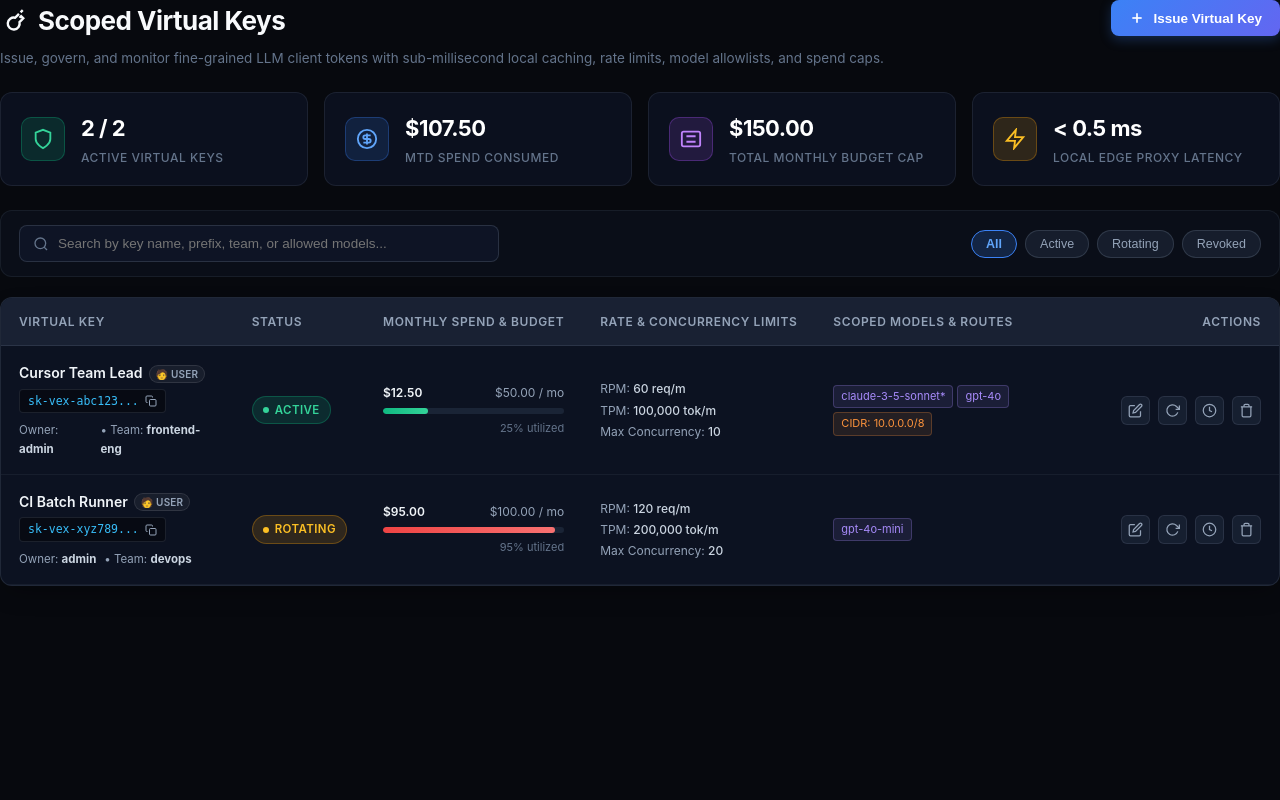
Test: VirtualKeys View › displays validation error inside modal if key name is missing
The image size is (1280, 800).
Expected: the text "Cursor Team Lead" is shown, [19,362,143,385]
Open modal
Click the button "Issue Virtual Key": [1196, 18] box [1111,0,1279,36]
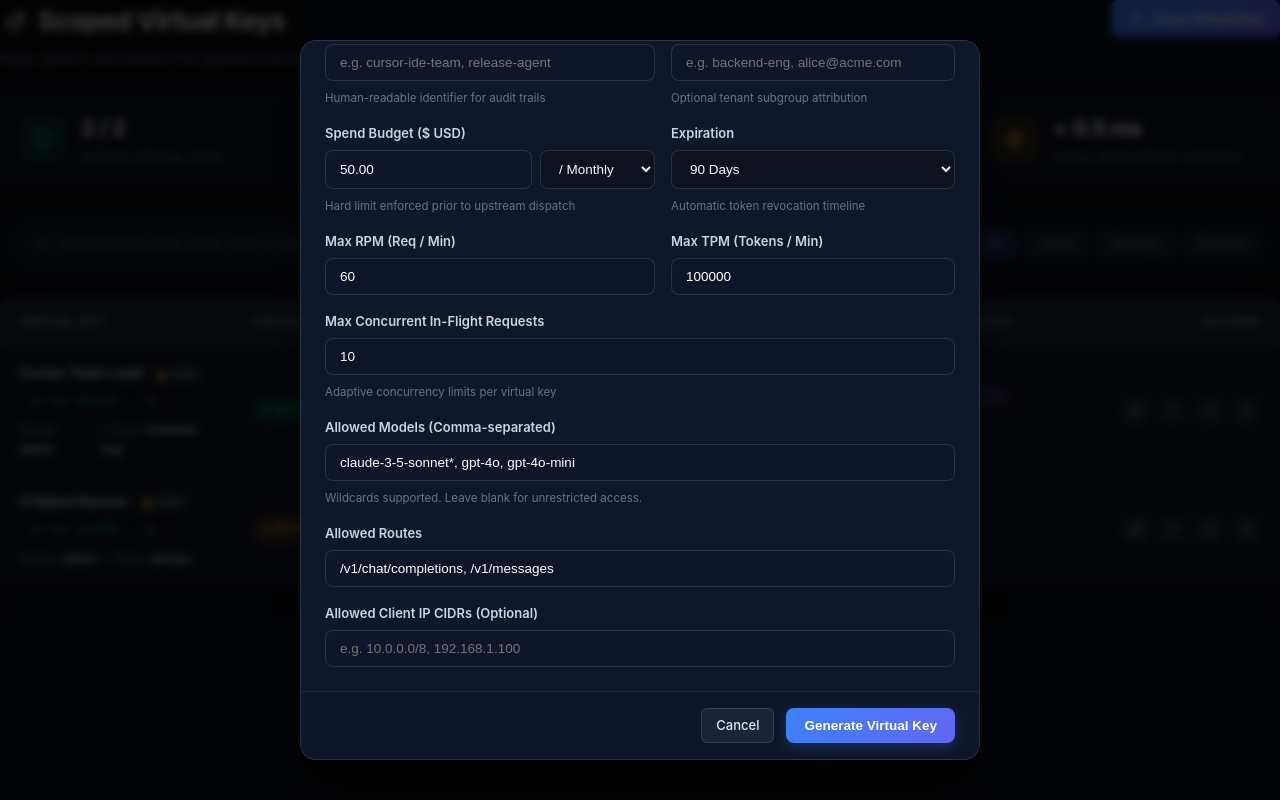
Leave name empty and submit
Click the button "Generate Virtual Key": [871, 725] box [786,708,955,743]
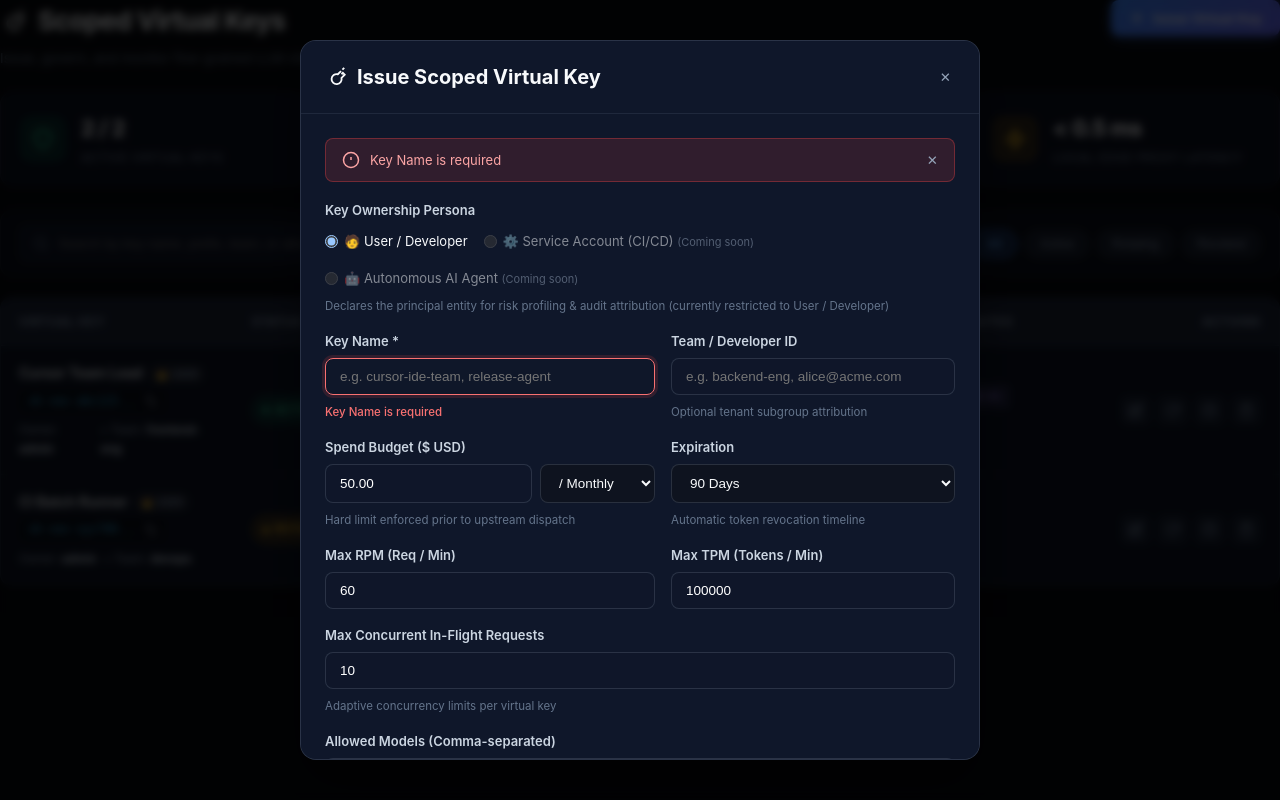
Result: the 1st text "Key Name is required" is shown at [370,152,501,168]
